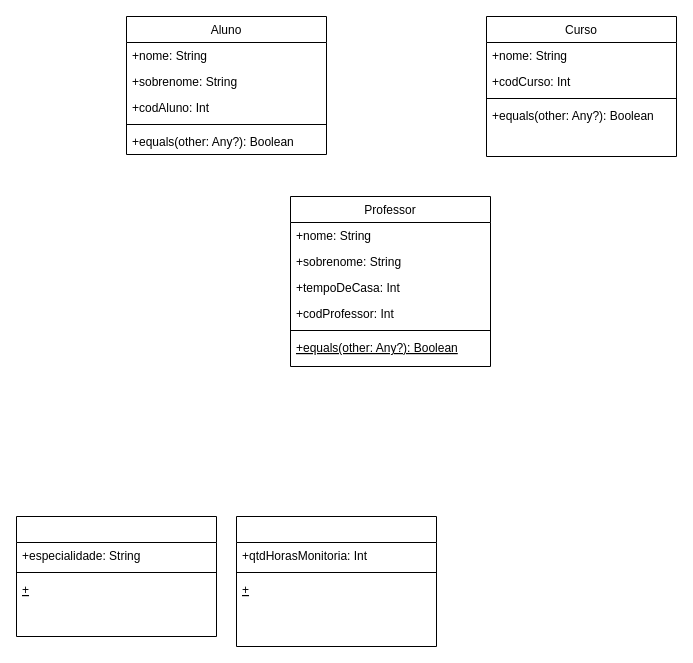
This 693x663 diagram has some shape labels left out. Each missing label, with the box of its shape:
ProfessorAdjunto: (236, 516, 436, 646)
ProfessorTitular: (16, 516, 216, 636)
